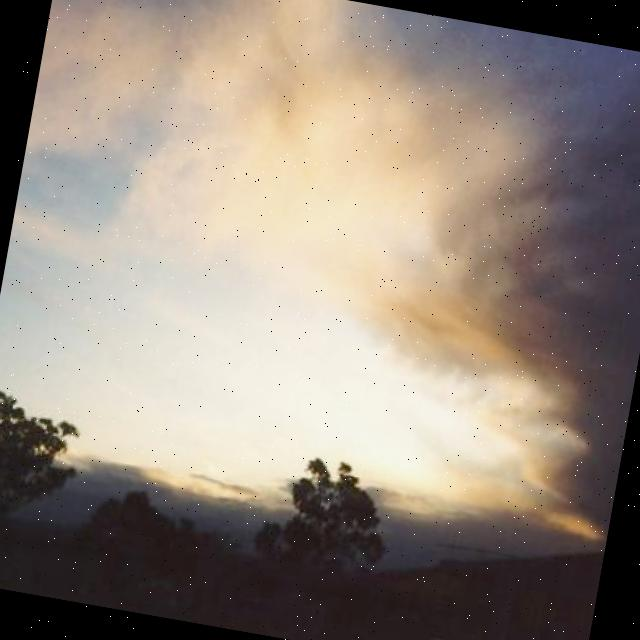Ns: (1, 31, 640, 517)
